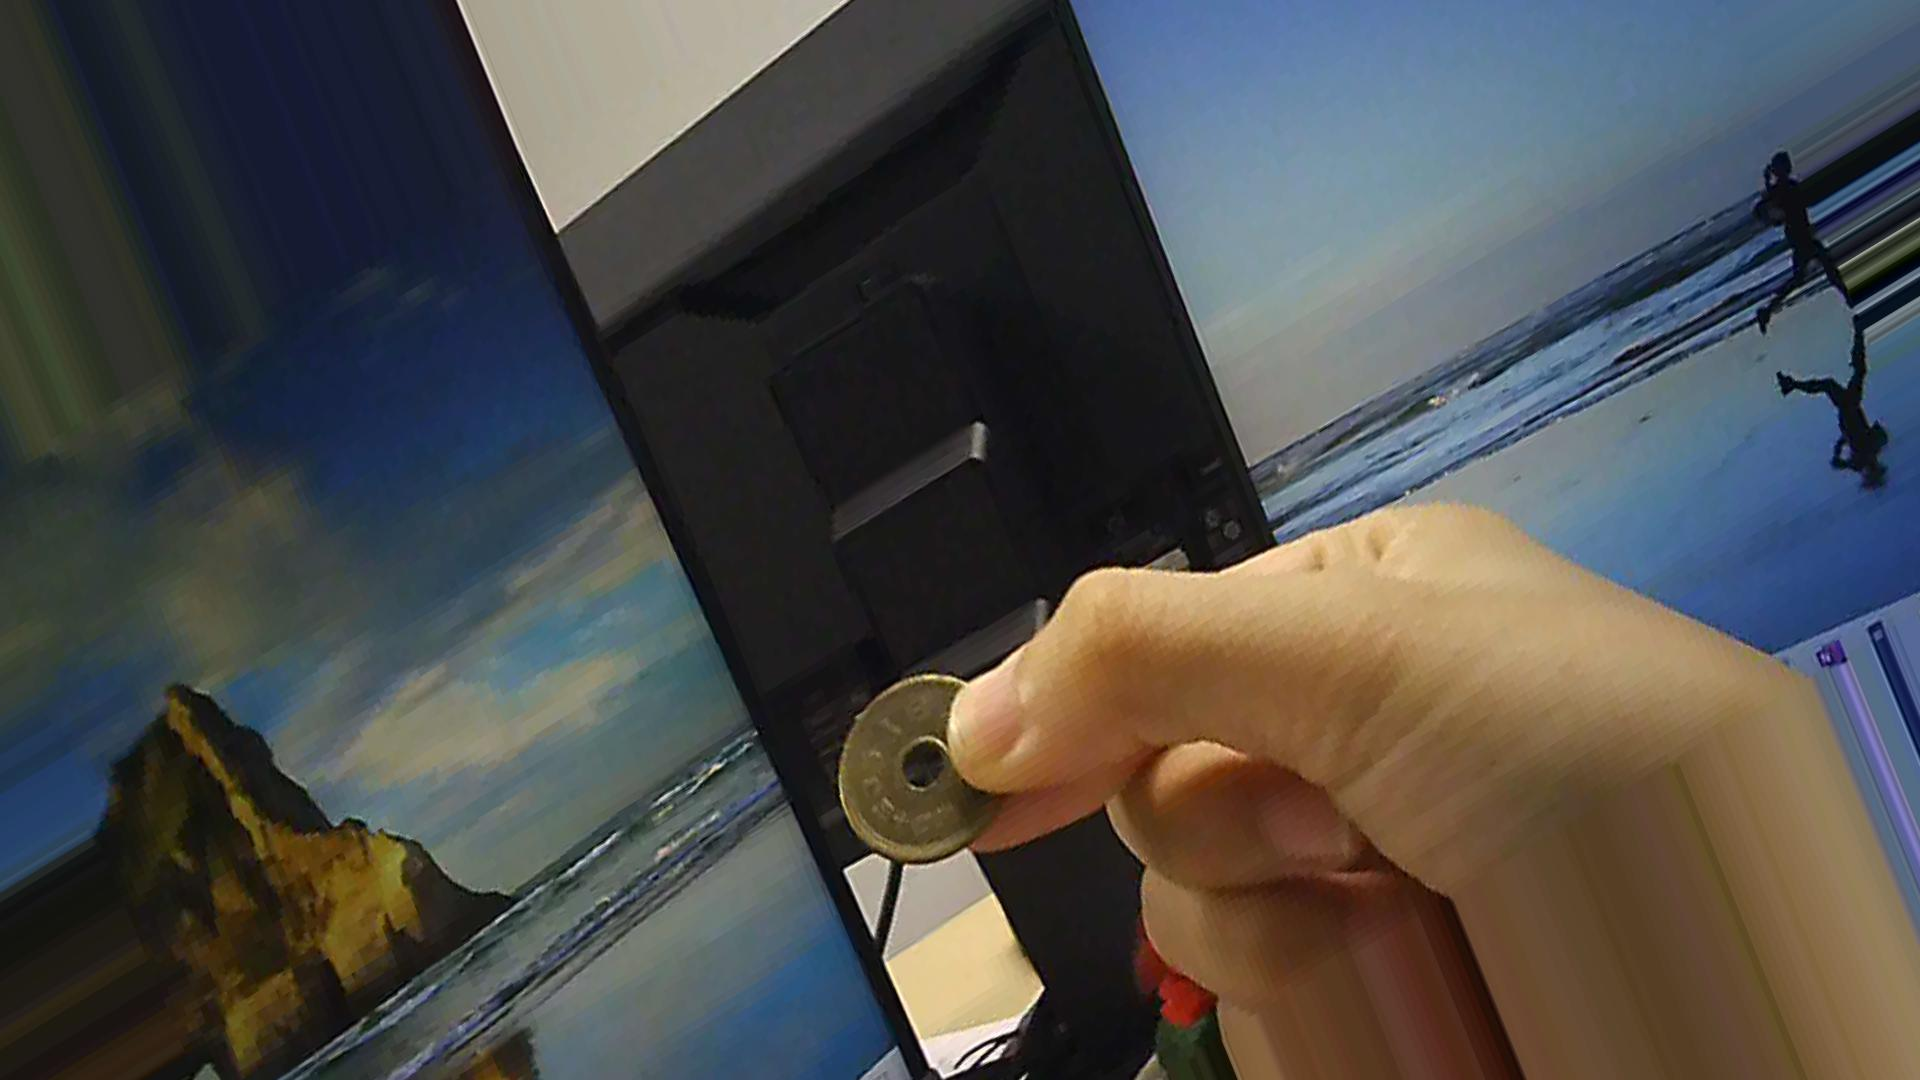5 Yen: (810, 662, 1007, 872)
